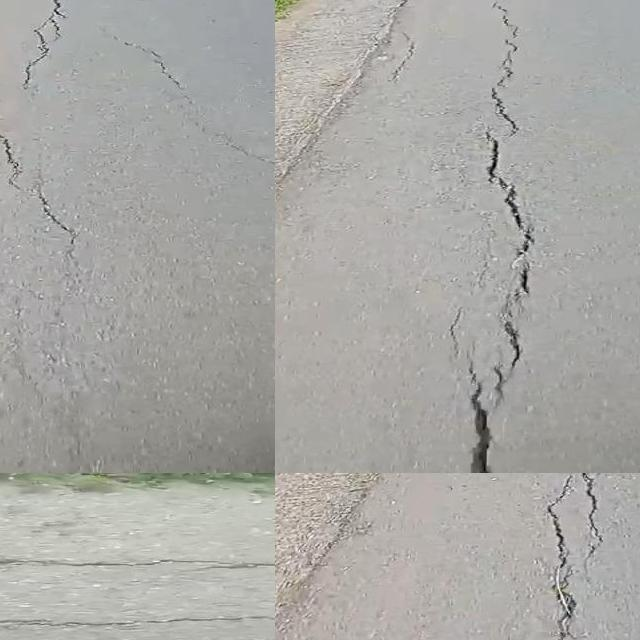Memanjang: (451, 0, 544, 473), (535, 473, 615, 640), (0, 100, 79, 238), (11, 0, 71, 106)
